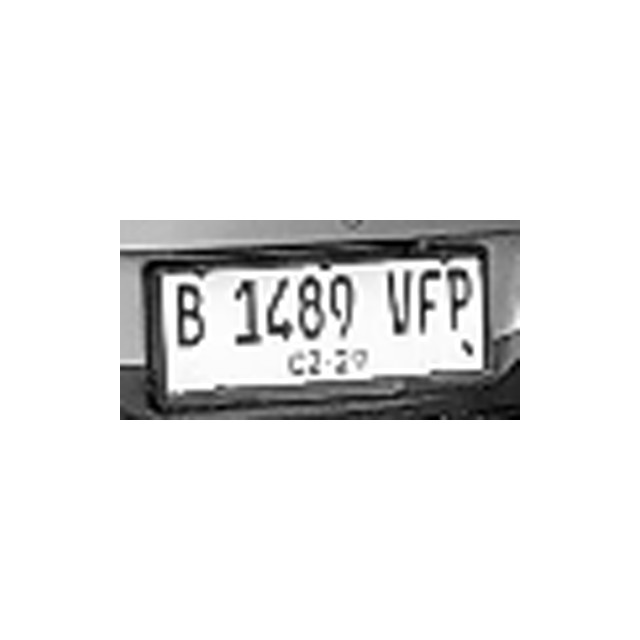contain: (172, 279, 209, 351), (231, 272, 266, 346), (265, 272, 298, 345), (381, 268, 413, 341), (444, 263, 477, 333), (327, 267, 358, 339), (299, 269, 328, 342), (415, 269, 444, 340)
